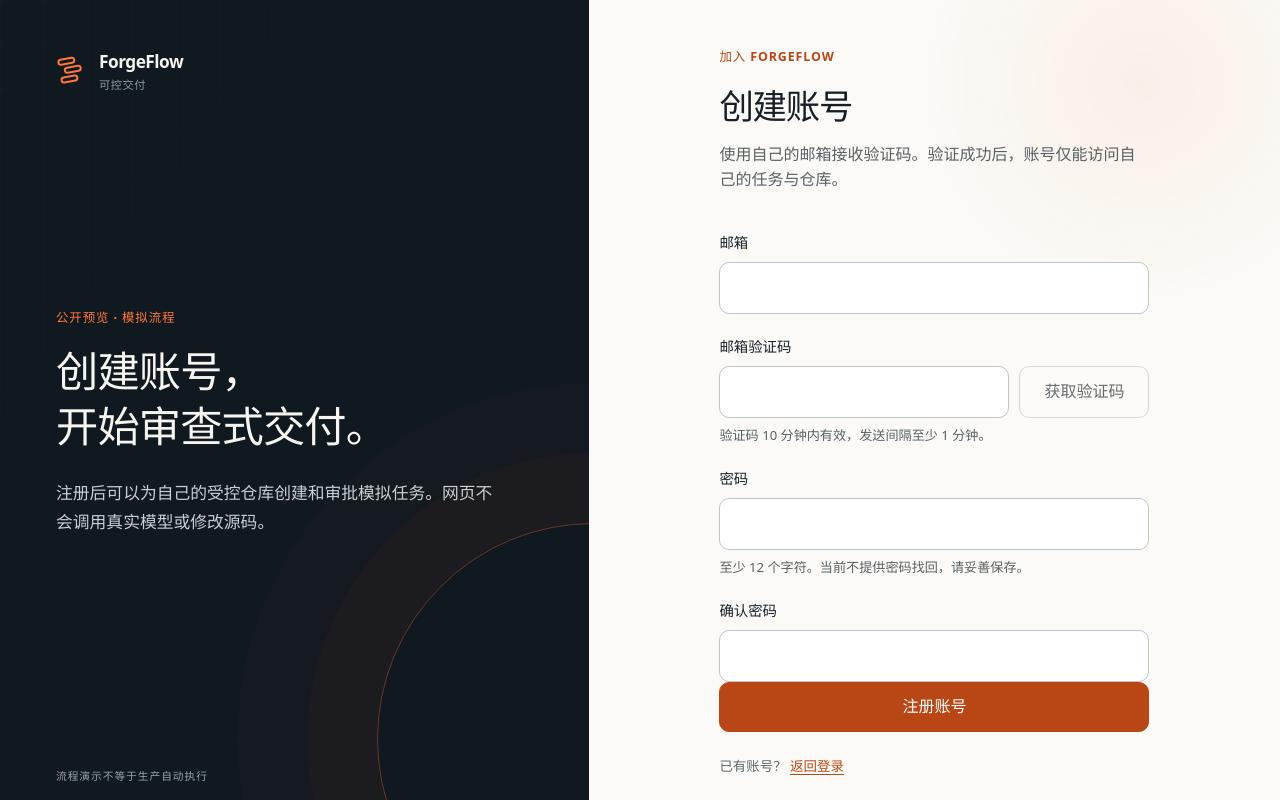
Scenario: authentication shell › keeps registration failures actionable without exposing server internals
Type "existing@example.com" into the field labelled "邮箱" at (934, 288), box x1=719 y1=262 x2=1149 y2=314
Click the button "获取验证码" at (1084, 392), box x1=1019 y1=366 x2=1149 y2=418
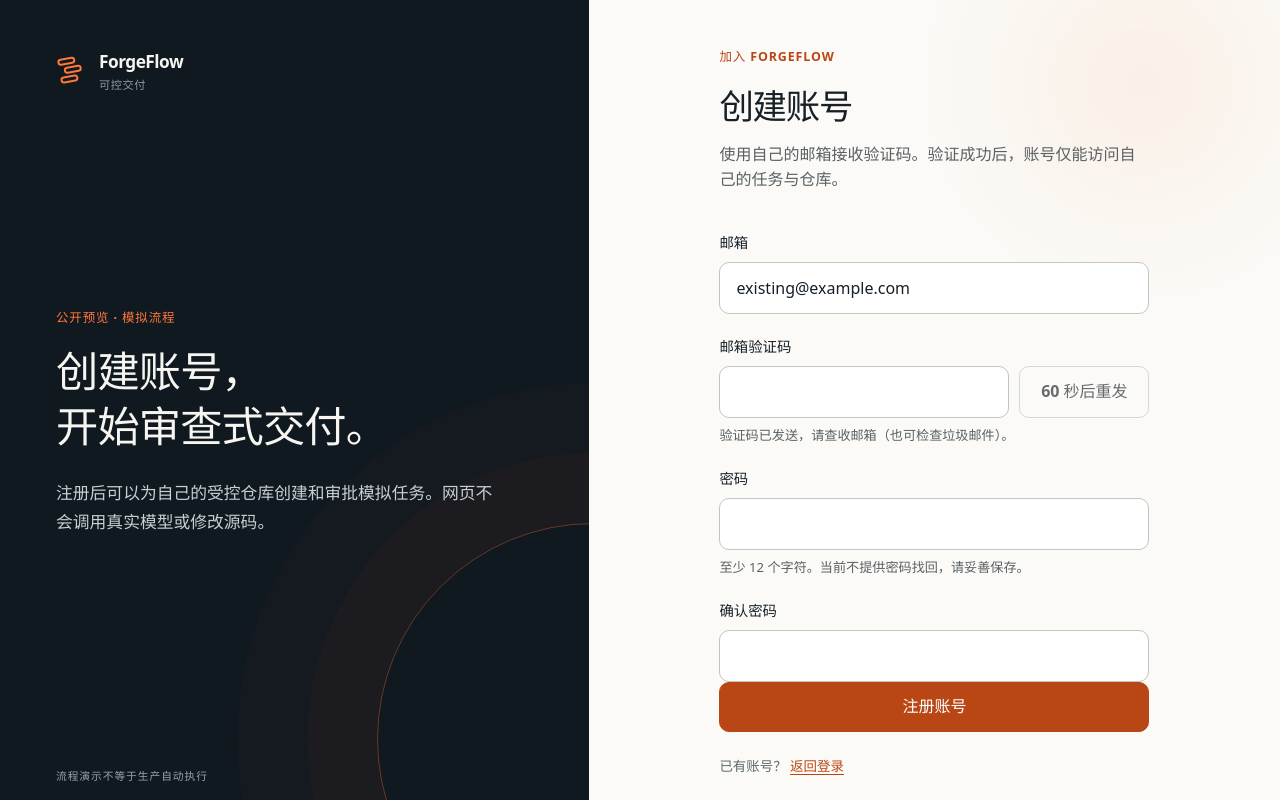
Type "87654321" into the field labelled "邮箱验证码" at (864, 392), box x1=719 y1=366 x2=1009 y2=418
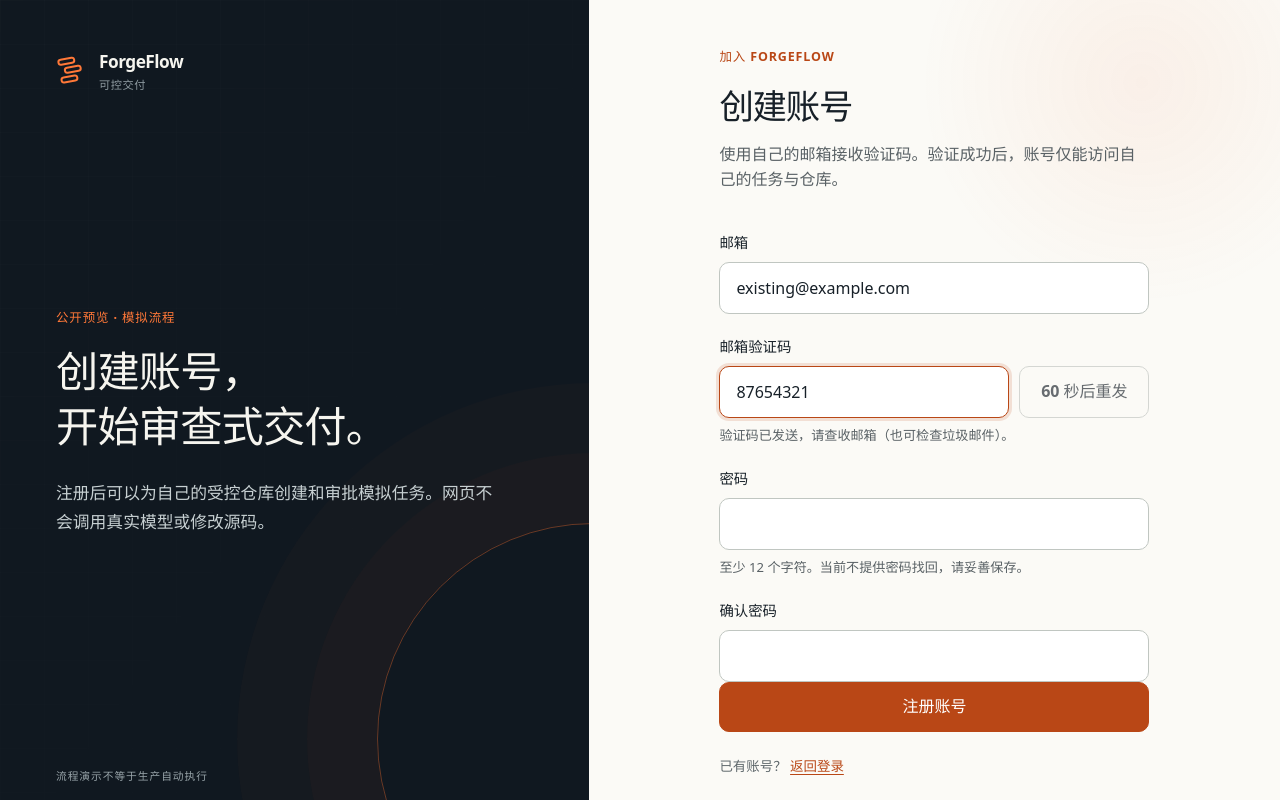
Type "a strong passphrase for signup" into the password field labelled "密码" at (934, 524), box x1=719 y1=498 x2=1149 y2=550
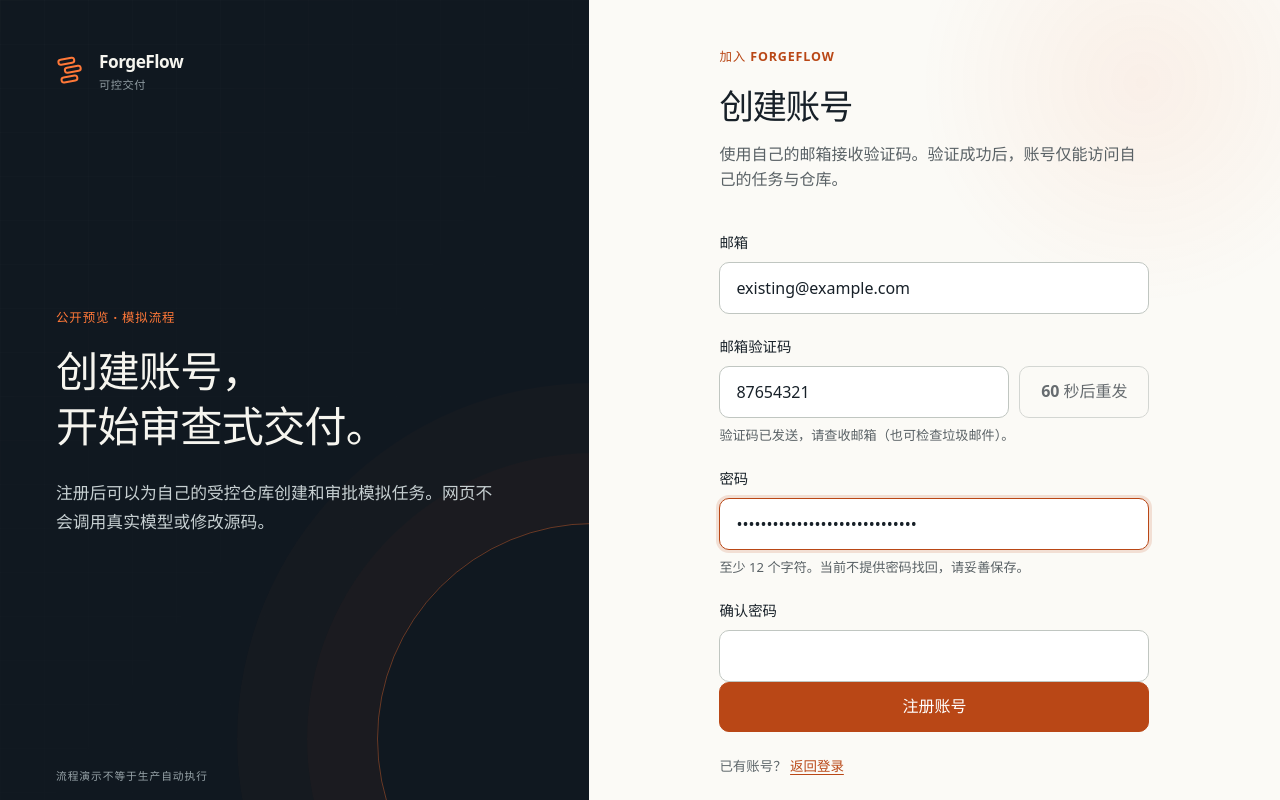
Type "a strong passphrase for signup" into the password field labelled "确认密码" at (934, 656), box x1=719 y1=630 x2=1149 y2=682
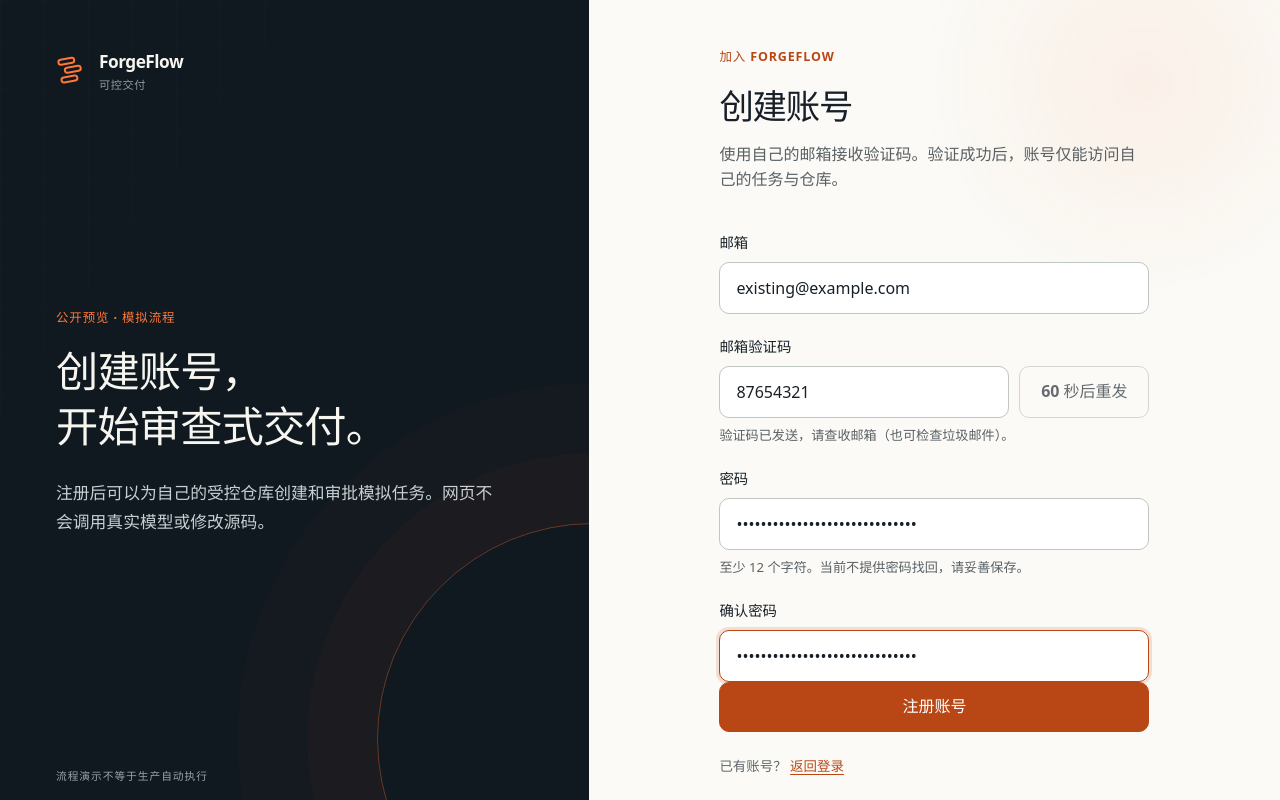
Click the button "注册账号" at (934, 707), box x1=719 y1=682 x2=1149 y2=732
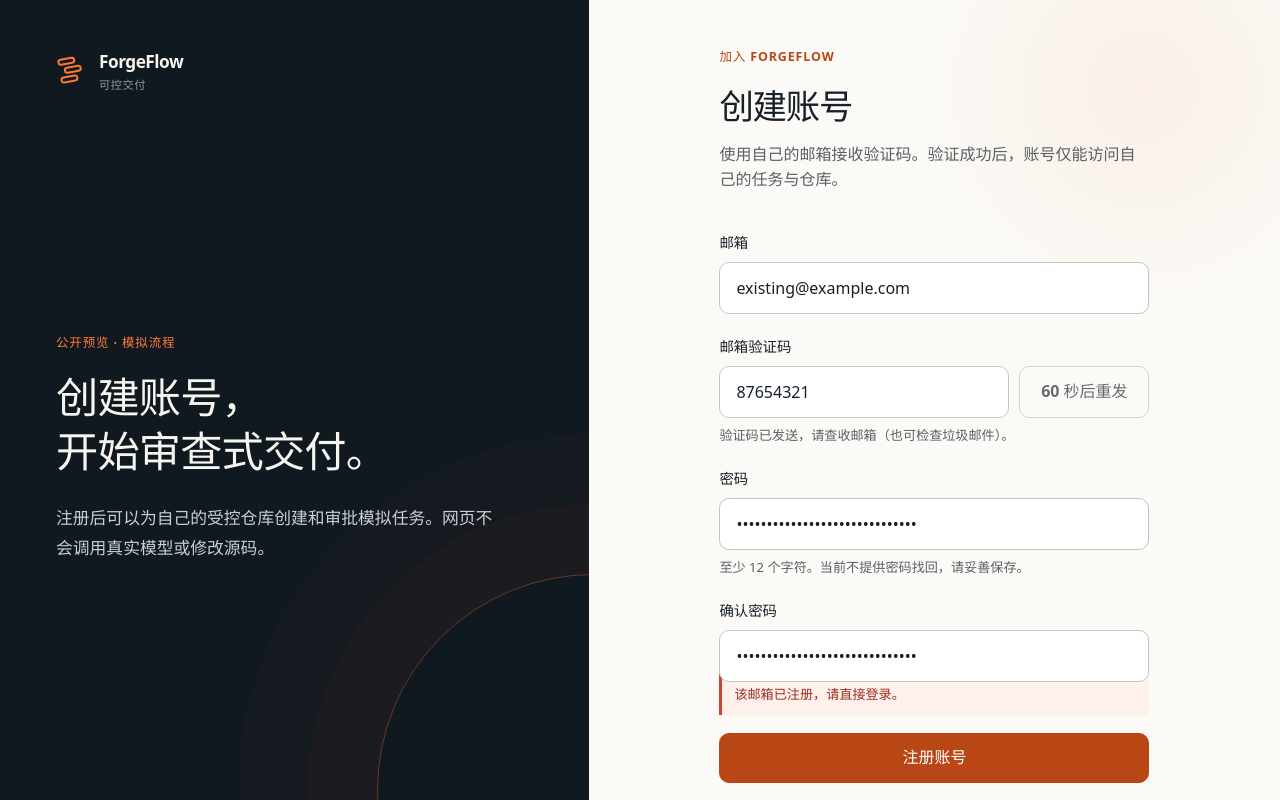
Result: the message shows "该邮箱已注册" at x1=734 y1=685 x2=905 y2=703
Click the button "注册账号" at (934, 758), box x1=719 y1=733 x2=1149 y2=783
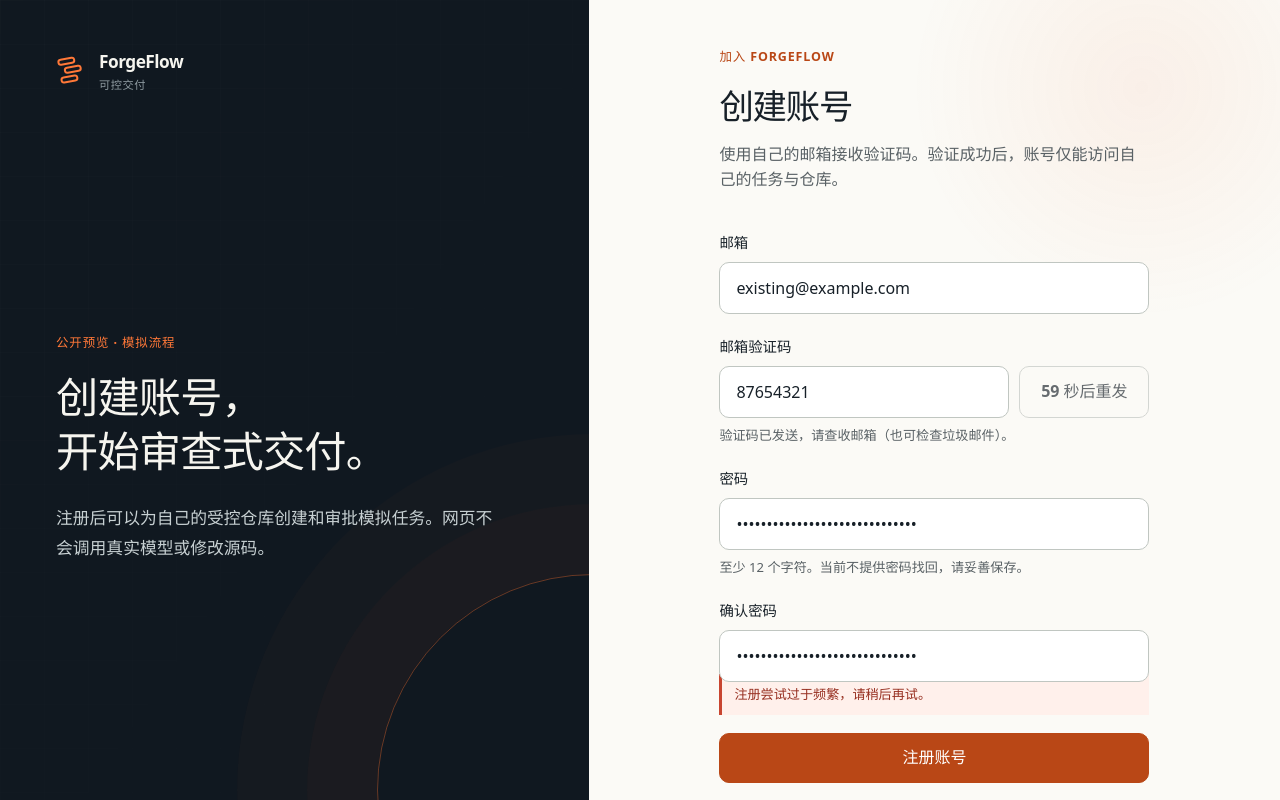
Result: the message shows "注册尝试过于频繁" at x1=734 y1=685 x2=931 y2=703
